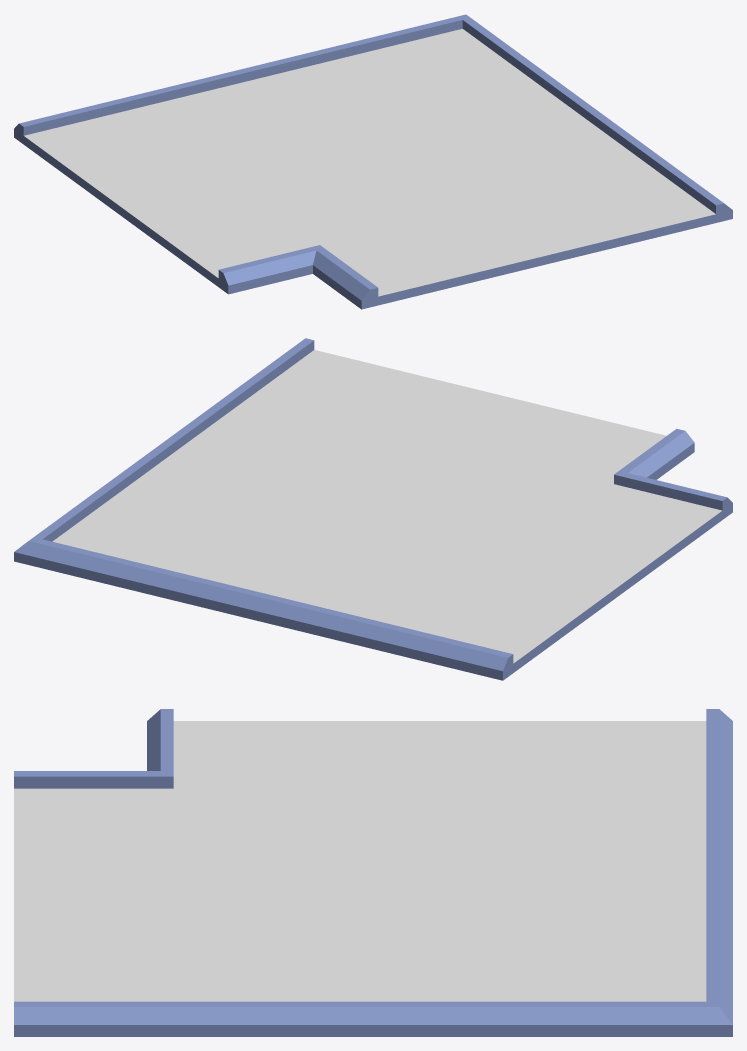
Rendered from tile-turn.glb.
3 renders of one model, top to bottom at view 1: azimuth 30°, elevation 25°; view 2: azimuth 150°, elevation 25°; view 3: azimuth 270°, elevation 25°, orthographic. The views are drawn at different scales.
Visible parts, largest first — view 1: tile-turn; view 2: tile-turn; view 3: tile-turn.
Part boxes in pixels (<box>): tile-turn: <box>14,14,732,309</box>; tile-turn: <box>14,338,732,680</box>; tile-turn: <box>14,709,732,1036</box>.
Size of the model in its own units: 13.5 by 0.5 by 13.5.
